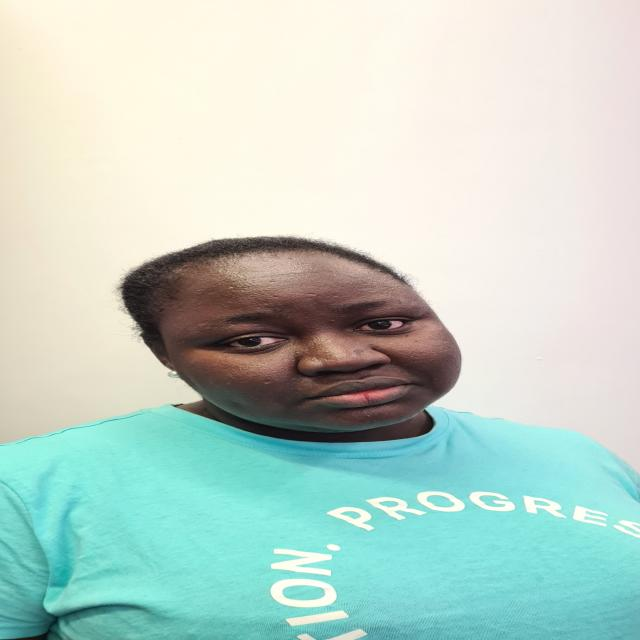sad: (106, 230, 476, 441)
